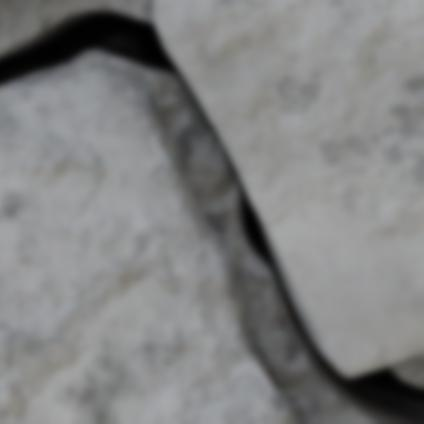brick: (0, 66, 297, 423), (154, 0, 423, 375)
crack: (0, 0, 423, 423)
